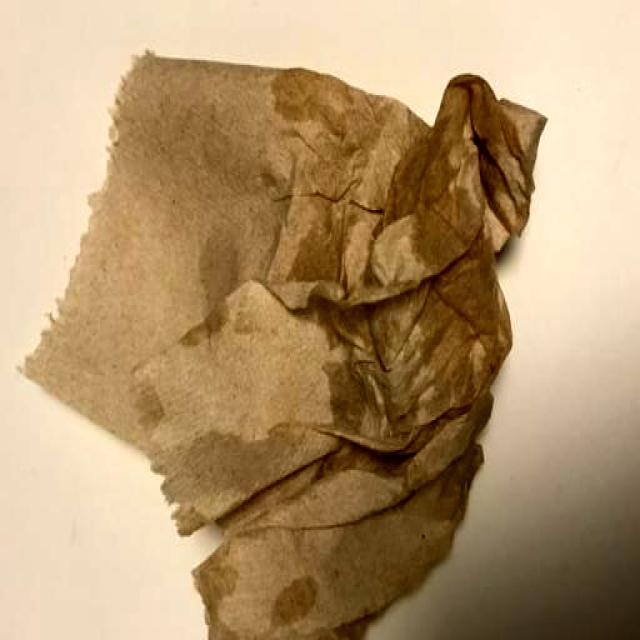Trash: (24, 55, 546, 638)
